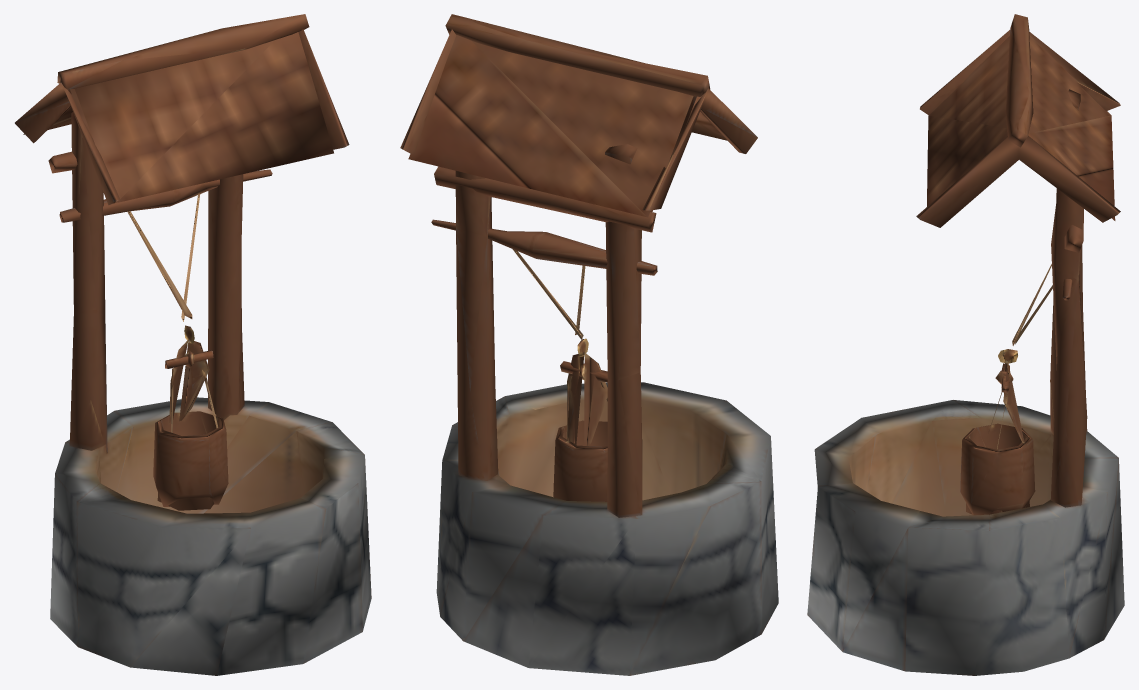
The model's file is prop-well.glb.
3 views of the same model, side by side, from view 1: azimuth 30°, elevation 25°; view 2: azimuth 150°, elevation 25°; view 3: azimuth 270°, elevation 25° (orthographic). The views are drawn at different scales.
Size of the model in its own units: 0.5093 by 0.9512 by 0.5093.
1 material, 1 textured.
